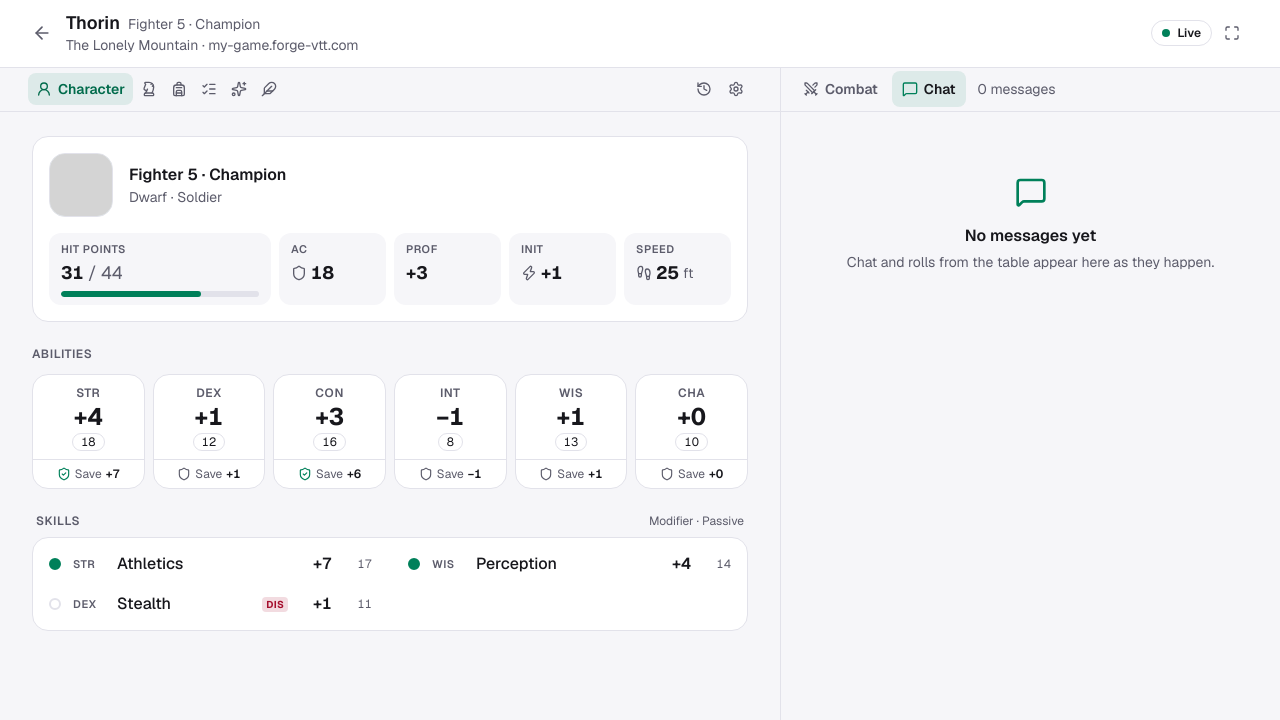
Test: components/game-table, party sheets › offers its party sheets on the Inventory tab, never in the header
This screenshot has width=1280, height=720.
Click the tab named "Inventory" at (179, 89), box top-left (165, 73), bottom-right (193, 105)
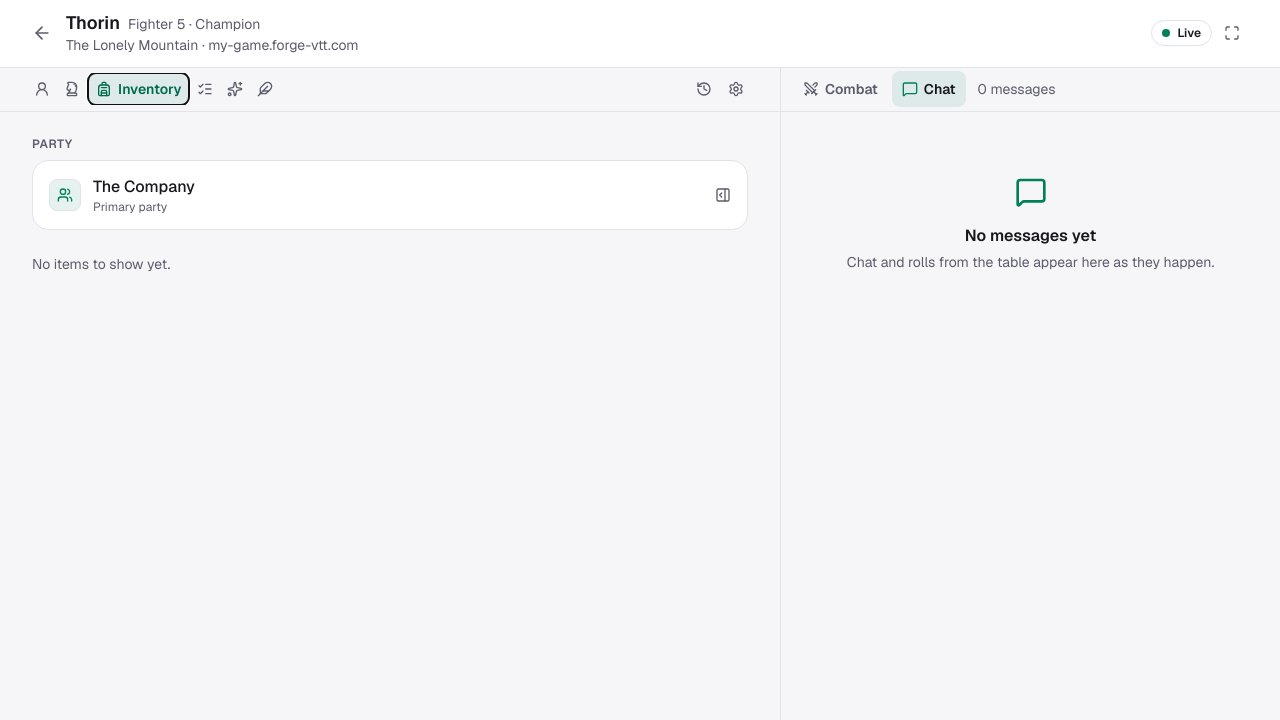
Expected: the element "Party" shows "The Company Primary party", top-left (32, 136), bottom-right (748, 230)
Expected: the button "The Company Primary party" is shown, top-left (39, 166), bottom-right (741, 222)
